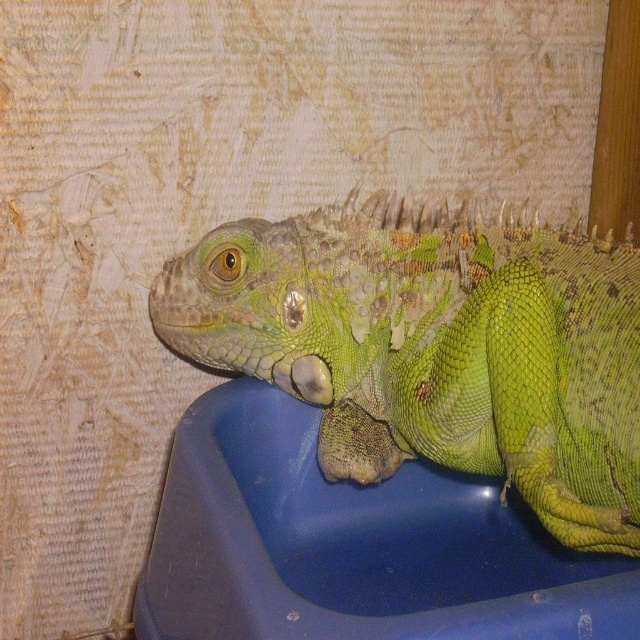Lizard: (146, 175, 638, 555)
